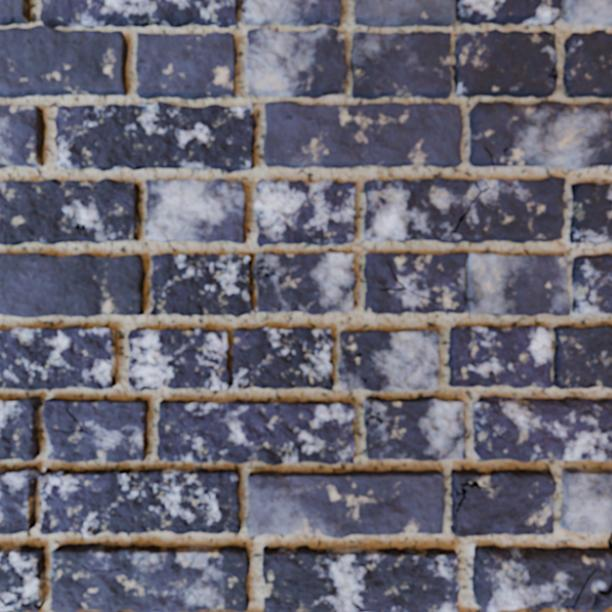brick: (0, 0, 238, 97), (0, 467, 240, 537), (364, 253, 611, 315), (56, 102, 256, 173), (364, 177, 565, 243), (52, 544, 249, 611), (247, 470, 444, 537), (265, 102, 462, 168), (263, 546, 460, 611), (158, 400, 354, 465), (448, 326, 611, 388), (472, 396, 611, 463), (0, 179, 141, 245), (0, 254, 145, 316), (0, 327, 116, 389), (246, 27, 347, 97), (451, 470, 556, 537), (454, 30, 557, 97), (42, 398, 148, 462), (352, 31, 451, 99), (137, 32, 236, 99), (256, 180, 355, 246), (365, 397, 466, 460), (151, 254, 253, 316), (233, 328, 334, 390), (146, 180, 245, 243), (128, 329, 230, 390), (254, 253, 356, 314), (340, 329, 440, 391), (355, 0, 560, 26), (561, 468, 611, 534), (564, 30, 611, 97), (0, 546, 45, 611), (0, 106, 44, 168), (0, 397, 39, 460), (243, 0, 341, 25), (0, 0, 29, 25), (478, 179, 485, 188)
broken_brick: (469, 100, 611, 170), (472, 544, 611, 611), (569, 182, 611, 245), (561, 0, 611, 26), (595, 595, 611, 611)
crack: (450, 178, 501, 234), (454, 478, 500, 534), (564, 568, 598, 611), (364, 411, 400, 444), (254, 263, 290, 293), (342, 348, 367, 384), (590, 569, 611, 611), (51, 179, 99, 189), (483, 145, 494, 167), (548, 67, 558, 83), (522, 607, 559, 611), (540, 31, 556, 37), (0, 489, 12, 496), (607, 531, 611, 550), (242, 6, 247, 19), (514, 104, 533, 106), (145, 229, 150, 236), (566, 104, 583, 106), (560, 0, 563, 11), (477, 608, 488, 611), (345, 429, 352, 433), (470, 139, 474, 143)
